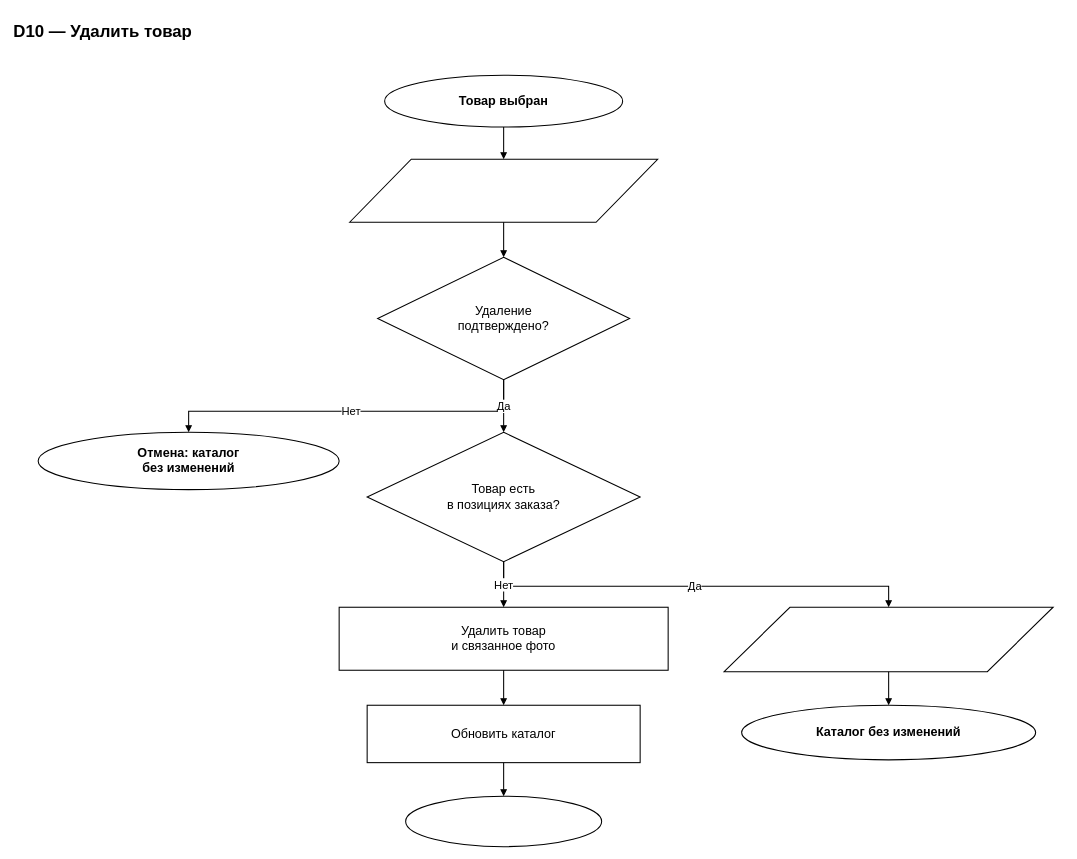
The diagram is 1077 pixels wide and 859 high, and some of its shapes have lost their labels. The centre of each missing label's shape, as x and y in pixels:
Конец: pixel 503 821
Нажать кнопку «Удалить товар»: pixel 503 190
Показать сообщение: товар нельзя удалить: pixel 888 639
